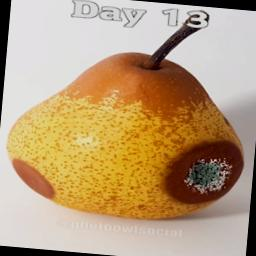Pear Rotten: (0, 0, 256, 229)
